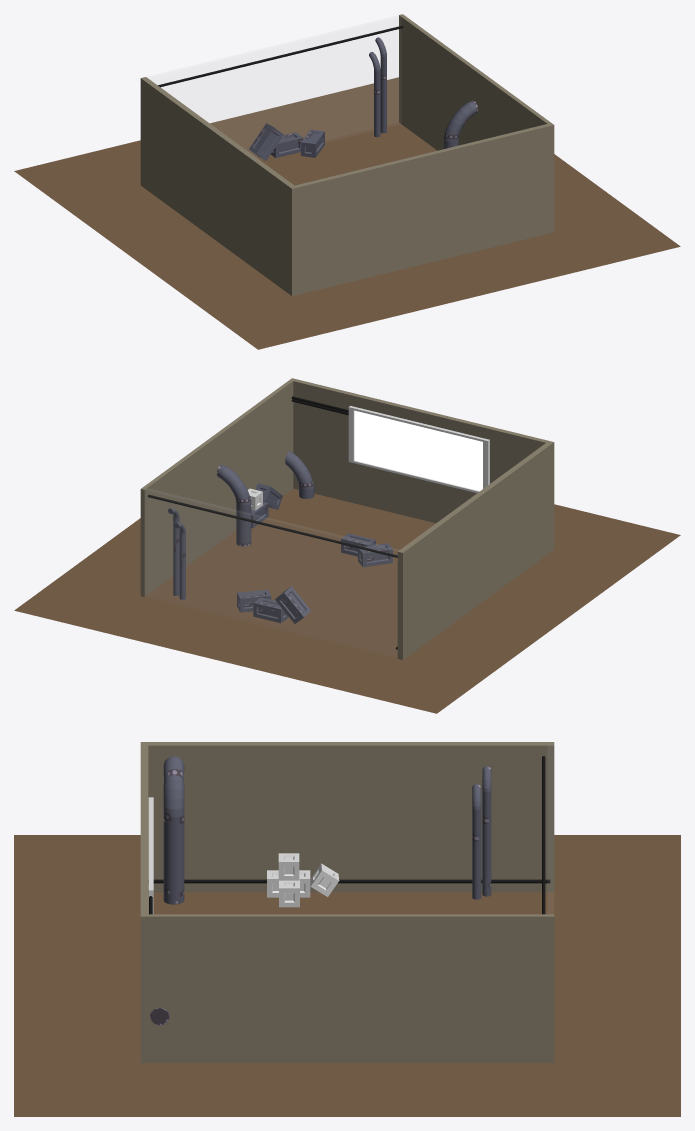
The model's file is Arenamodificada2.fbx.
3 views of the same model, one above another, from view 1: azimuth 30°, elevation 25°; view 2: azimuth 150°, elevation 25°; view 3: azimuth 270°, elevation 25° (orthographic). The views are drawn at different scales.
Visible parts, largest first — view 1: paredes, suelo, paredes.001, Cilindro.010, Cilindro, caja G.004, Cilindro.001, Cilindro.002, caja G.003, caja G.002; view 2: suelo, paredes, paredes.001, Cubo.001, Cubo, Cilindro, Cilindro.010, Cilindro.012, caja G.004, caja G.006, caja G.002, Cilindro.001 (+2 smaller); view 3: paredes, suelo, Cilindro.007, Cilindro.011, Cilindro.008, Cilindro.009, Cubo, Cilindro.010, caja.004, caja.003, caja.005.
Boxes of the visible parts, left/top/right/bottom form: paredes: left=140, top=14, right=554, bottom=296; suelo: left=14, top=77, right=680, bottom=349; paredes.001: left=148, top=16, right=398, bottom=156; Cilindro.010: left=158, top=25, right=403, bottom=87; Cilindro: left=443, top=100, right=477, bottom=148; caja G.004: left=249, top=123, right=283, bottom=160; Cilindro.001: left=375, top=37, right=386, bottom=133; Cilindro.002: left=369, top=52, right=380, bottom=137; caja G.003: left=301, top=129, right=324, bottom=157; caja G.002: left=271, top=132, right=303, bottom=157; suelo: left=14, top=488, right=680, bottom=713; paredes: left=140, top=378, right=554, bottom=660; paredes.001: left=148, top=489, right=397, bottom=655; Cubo.001: left=354, top=410, right=482, bottom=490; Cubo: left=348, top=406, right=489, bottom=492; Cilindro: left=217, top=464, right=251, bottom=546; Cilindro.010: left=148, top=494, right=397, bottom=557; Cilindro.012: left=285, top=451, right=314, bottom=498; caja G.004: left=275, top=586, right=311, bottom=623; caja G.006: left=358, top=543, right=392, bottom=567; caja G.002: left=253, top=597, right=288, bottom=623; Cilindro.001: left=168, top=508, right=179, bottom=595; paredes: left=140, top=742, right=554, bottom=1063; suelo: left=14, top=835, right=680, bottom=1116; Cilindro.007: left=163, top=756, right=184, bottom=904; Cilindro.011: left=148, top=879, right=550, bottom=883; Cilindro.008: left=482, top=766, right=491, bottom=896; Cilindro.009: left=472, top=784, right=481, bottom=899; Cubo: left=148, top=797, right=153, bottom=914; Cilindro.010: left=542, top=756, right=545, bottom=914; caja.004: left=310, top=863, right=339, bottom=896; caja.003: left=278, top=853, right=299, bottom=880; caja.005: left=279, top=879, right=299, bottom=907.
Size of the model in its own units: 6451 by 2026 by 6451.
26 materials, 14 textured.
